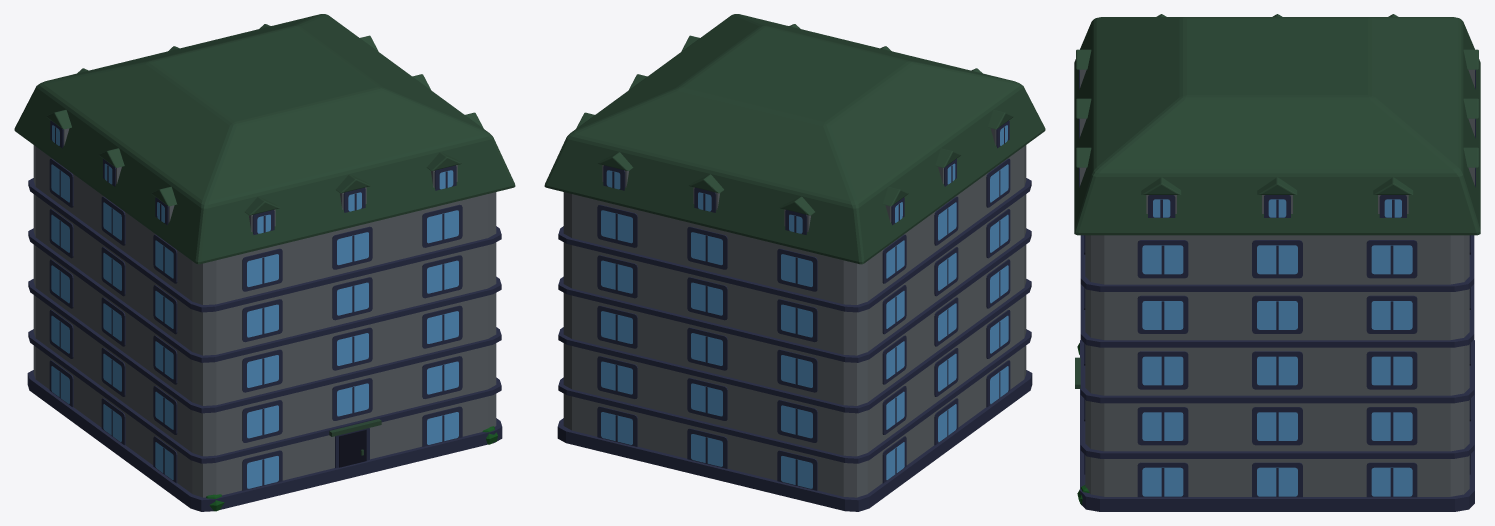
File: house-2x2-5f-mansard-d.glb
The picture shows the model from 3 angles, left to right: view 1: azimuth 30°, elevation 25°; view 2: azimuth 150°, elevation 25°; view 3: azimuth 270°, elevation 25°; orthographic projection. The views are drawn at different scales.
Visible parts, largest first — view 1: house-2x2-5f-mansard-d; view 2: house-2x2-5f-mansard-d; view 3: house-2x2-5f-mansard-d.
Boxes of the visible parts, x1,y1,x2,y2 form: house-2x2-5f-mansard-d: (14, 14, 515, 511); house-2x2-5f-mansard-d: (544, 14, 1045, 511); house-2x2-5f-mansard-d: (1074, 14, 1480, 511).
Size of the model in its own units: 1.99 by 2.01 by 1.99.
1 material, 1 textured.
